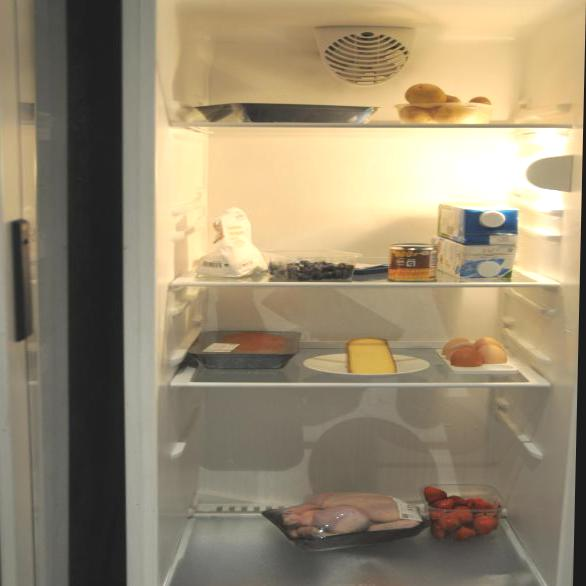cheese: (321, 333, 417, 394)
chicken: (266, 475, 416, 541)
eggs: (432, 330, 520, 381)
meat: (186, 332, 285, 373)
milk: (442, 239, 531, 288), (442, 202, 519, 242)
olive: (281, 250, 359, 290)
potatoes: (396, 79, 504, 129)
tomatoes: (421, 476, 505, 546)
